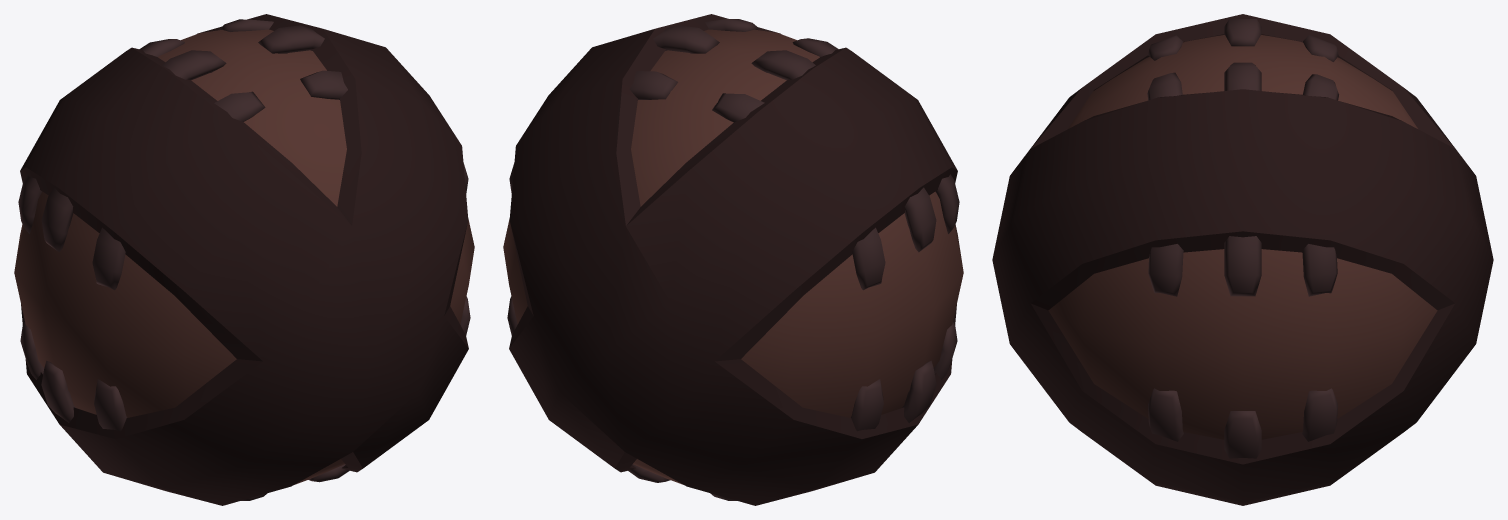
File: Ball.fbx
3 renders of one model, left to right at view 1: azimuth 30°, elevation 25°; view 2: azimuth 150°, elevation 25°; view 3: azimuth 270°, elevation 25°, orthographic.
Parts seen in each view (by area): view 1: Ball; view 2: Ball; view 3: Ball.
Part boxes in pixels (<box>): Ball: <box>14,14,474,505</box>; Ball: <box>503,14,963,505</box>; Ball: <box>992,14,1493,505</box>.
Bounding box in the file's own units: 100 × 103 × 110.
